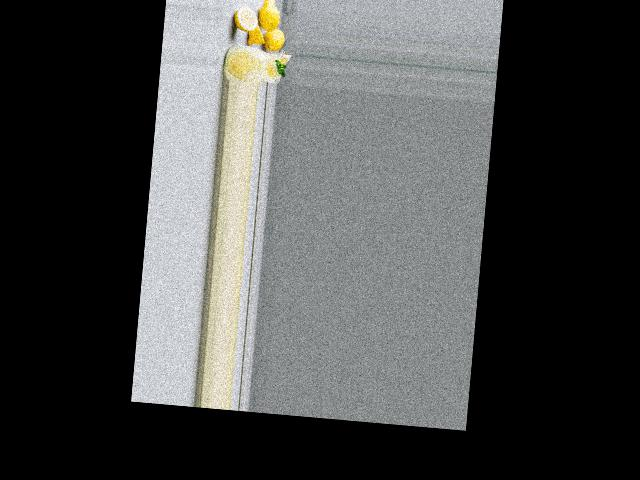lemon: (257, 5, 279, 36)
